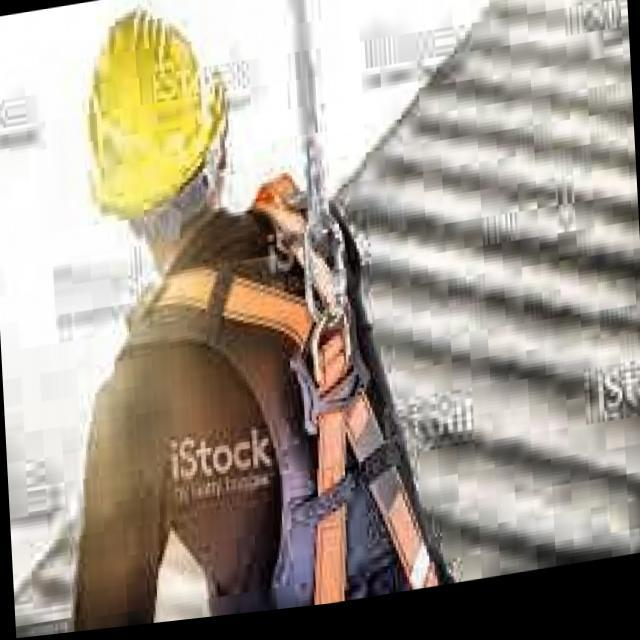belt: (117, 154, 447, 630)
